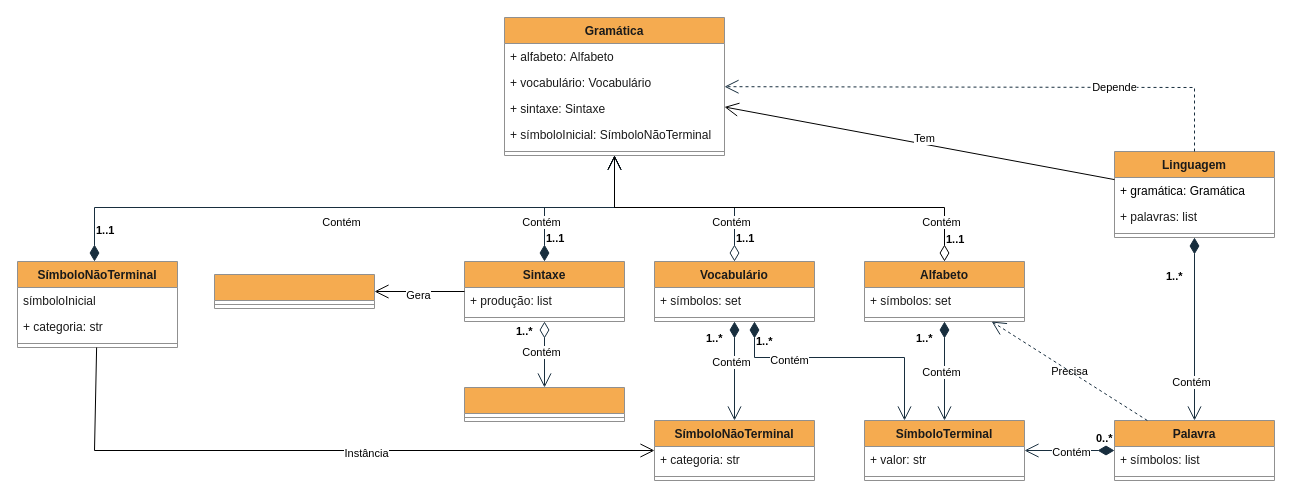
Some shapes in this 1292 by 498 pixel diagram are drawn without their labels. Each missing label, with the centre of its shape:
FormaSentencial: the point at 294,291
Produção: the point at 544,404
